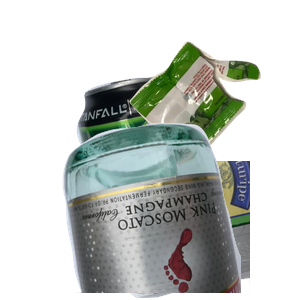glass: (60, 120, 300, 300)
metal: (74, 74, 257, 254)
plastic: (23, 161, 263, 300)
trash: (127, 39, 300, 193)
